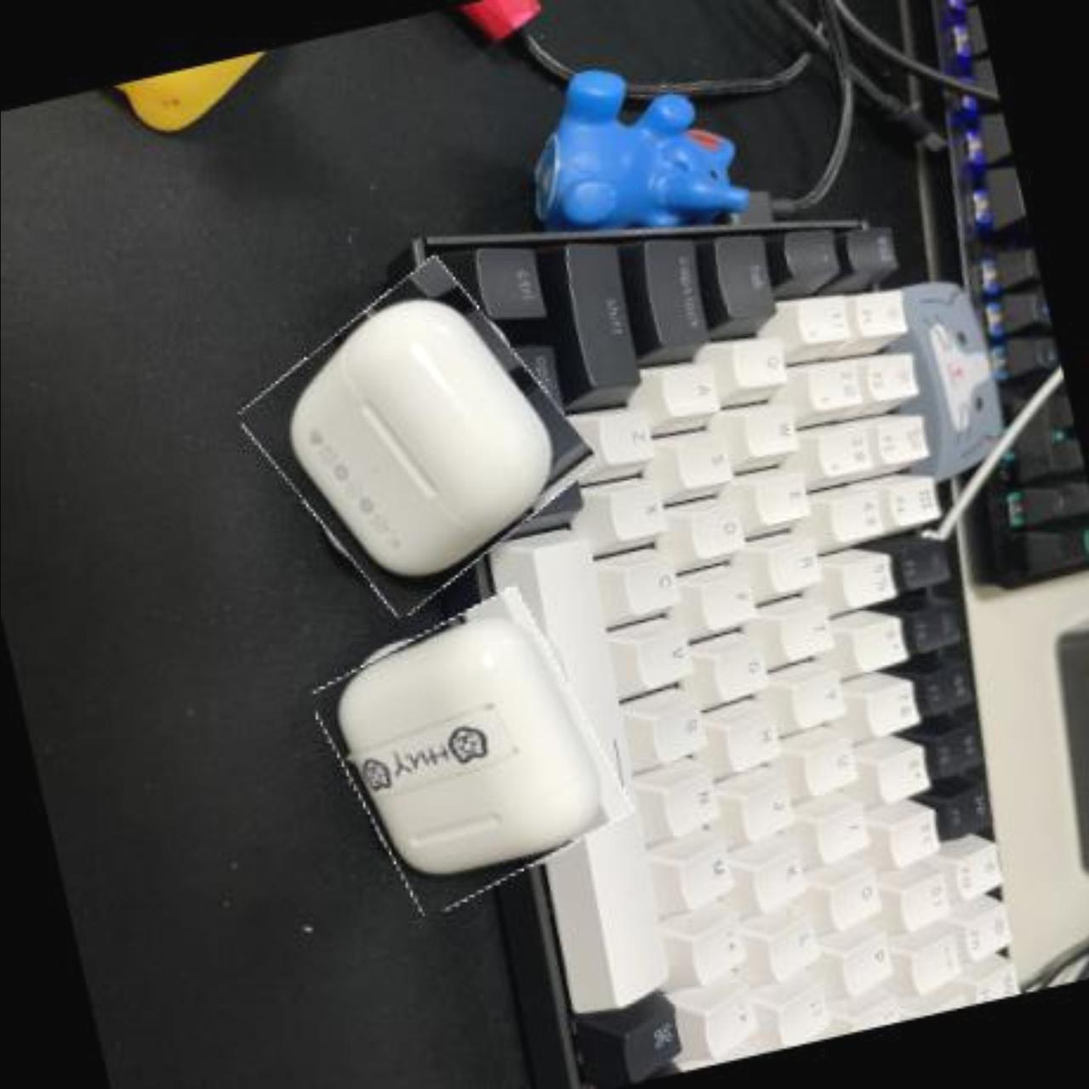AirPods: (237, 253, 599, 620), (313, 587, 632, 915)
